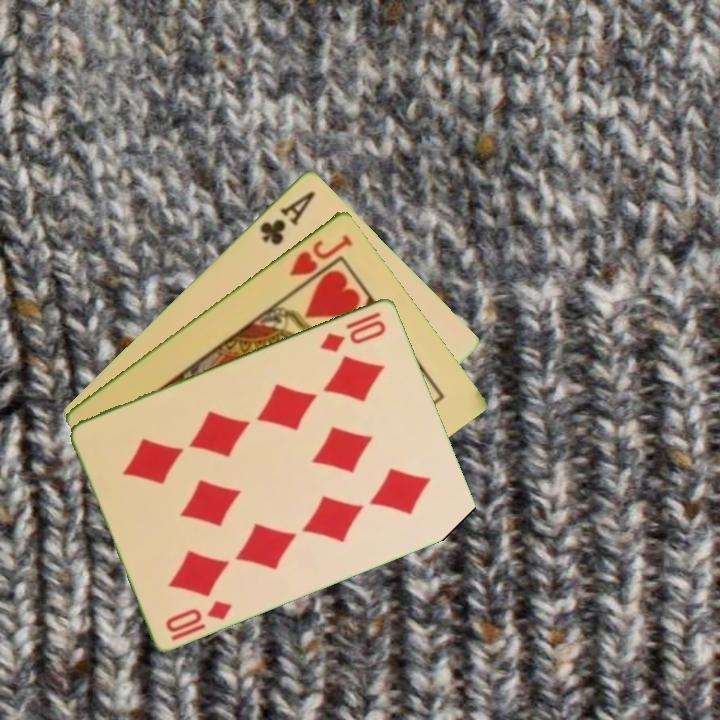10d: (317, 307, 389, 355), (162, 596, 236, 635)
Ac: (255, 186, 318, 248)
Jh: (285, 230, 356, 279)
